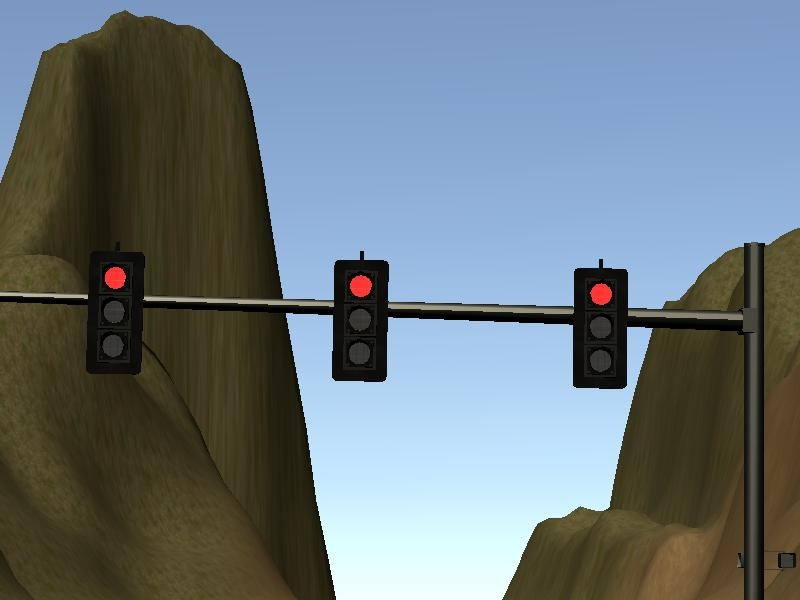RED: (571, 269, 629, 393), (330, 259, 388, 383), (87, 252, 145, 376)
